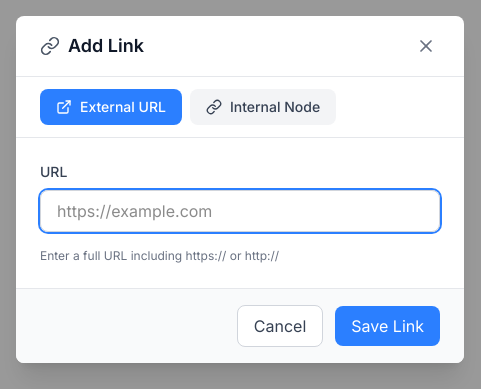
it: NodeLinkEditor › switches to internal node tab
The image size is (481, 389).
Click the button "Internal Node". click: [263, 106]
box: [190,88,336,124]
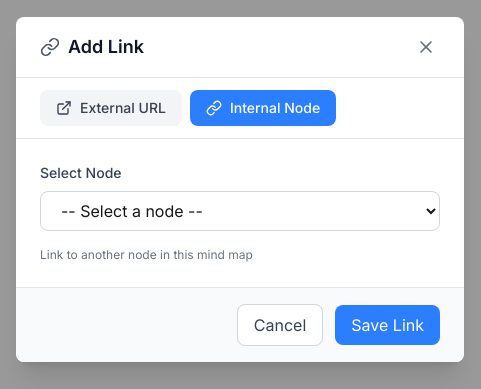
Expected: the text "Select Node" is shown, [40,164,122,180]
